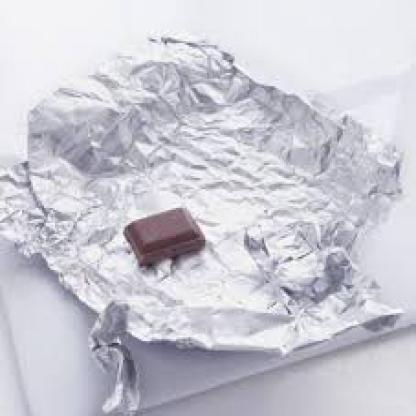BIODEGRADABLE: (121, 204, 205, 266)
METAL: (0, 30, 414, 414)
